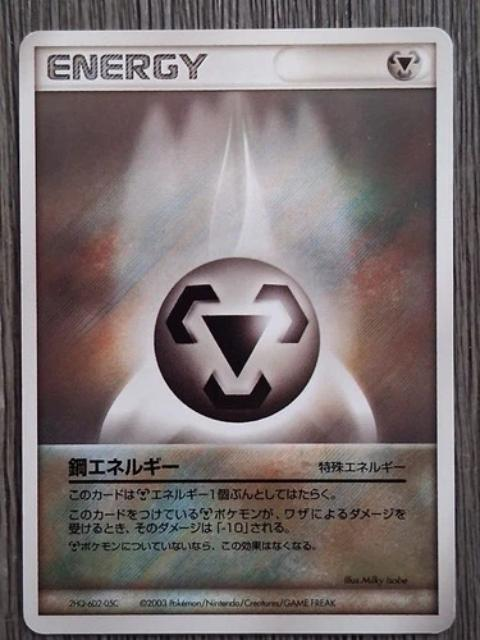Card: (12, 21, 461, 639)
Name: (62, 447, 192, 483)
